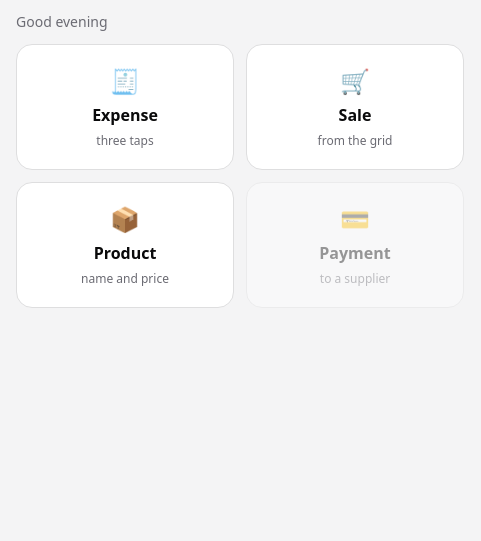
Test: QuickEntry stage 2 — sale › shows the grid with prices and refuses to record an empty sale
Click the button "🛒 Sale from the grid".
click(355, 107)  # box [246,44,464,170]
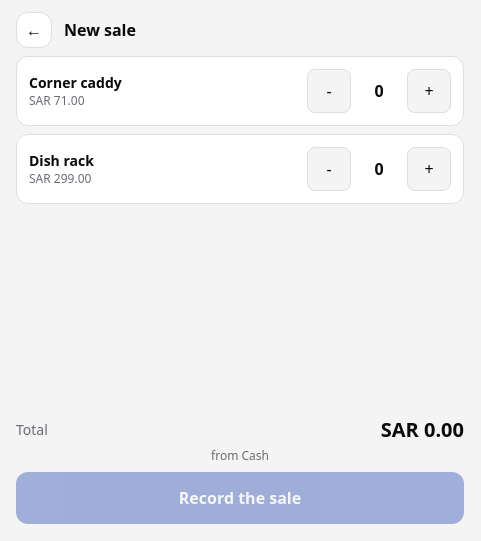
Expected: the text "Corner caddy" is shown, [29,73,122,92]
Expected: the text "SAR 71.00" is shown, [29,92,84,109]
Expected: the button "Record the sale" is disabled, [16,472,464,524]
